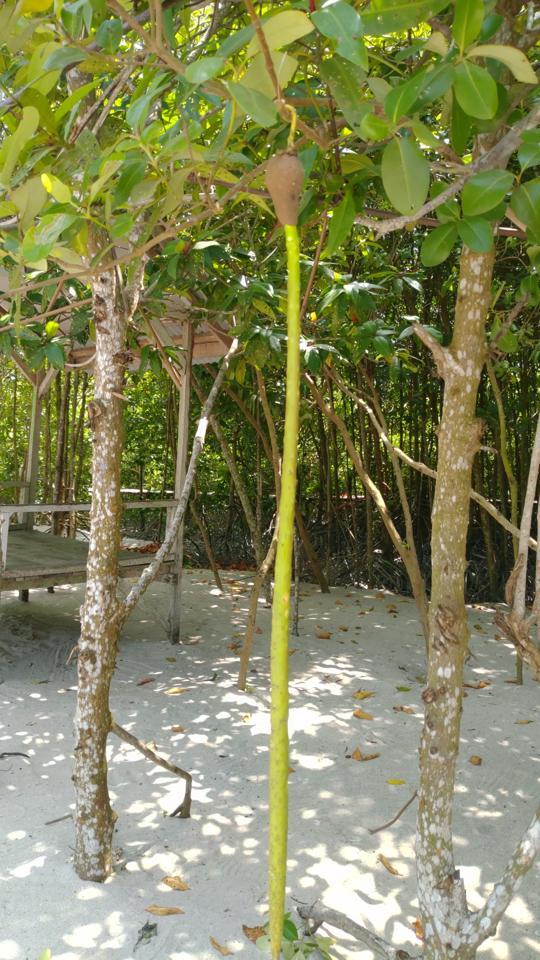mentah: (259, 134, 311, 956)
